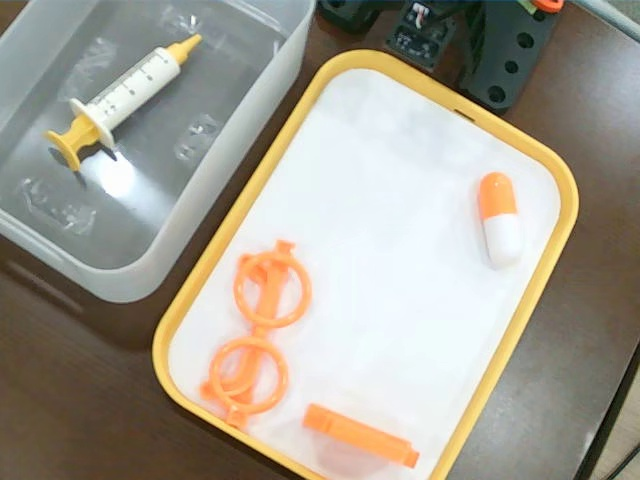pill: (476, 173, 524, 267)
syringe: (46, 35, 203, 171)
